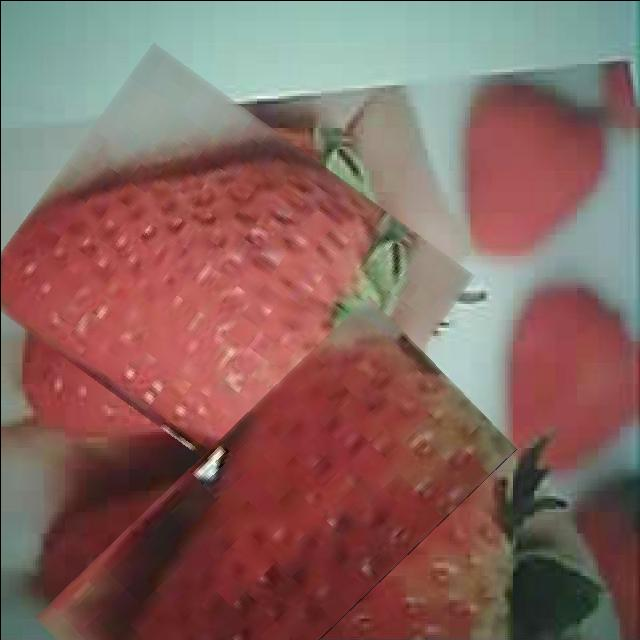strawberry: (0, 85, 449, 480), (39, 361, 512, 640)
